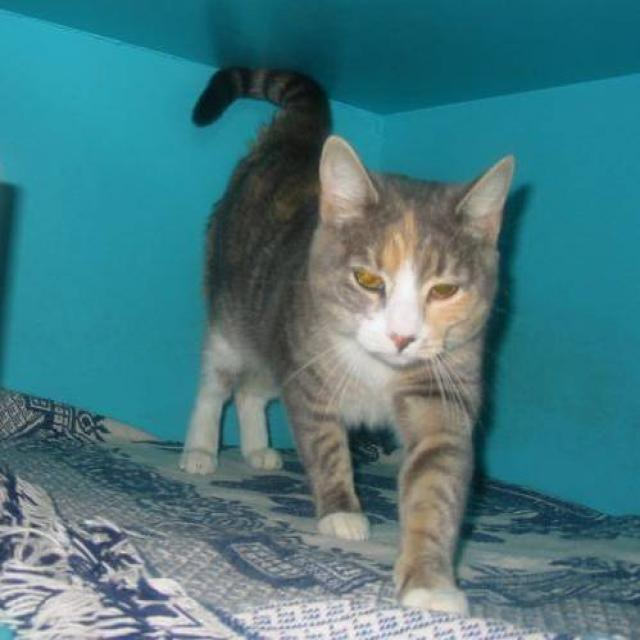cat: (177, 64, 514, 616)
